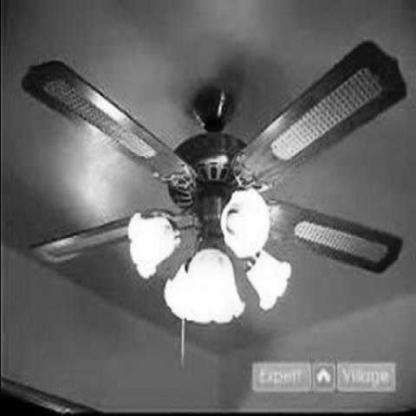ceiling-fan: (19, 37, 408, 317)
